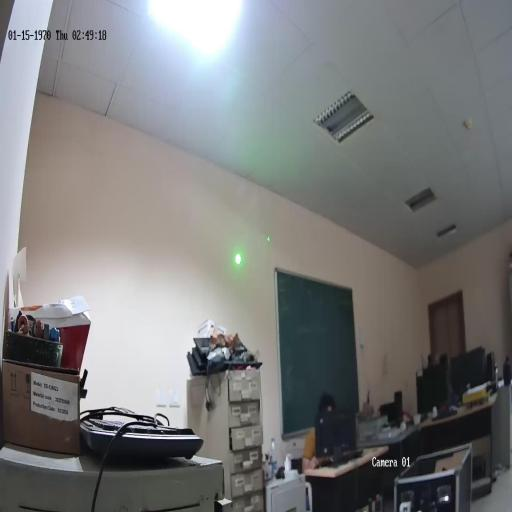laser: (232, 249, 242, 266)
